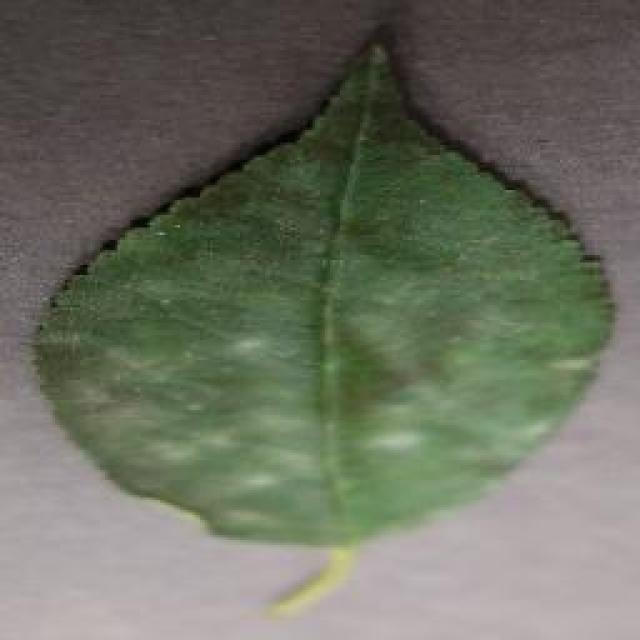Cherry___Powdery_mildew: (15, 25, 623, 637)
